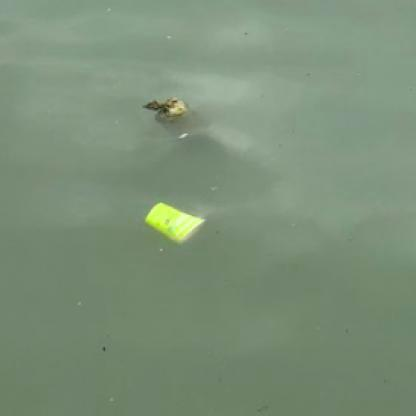Plastic: (142, 199, 212, 248)
